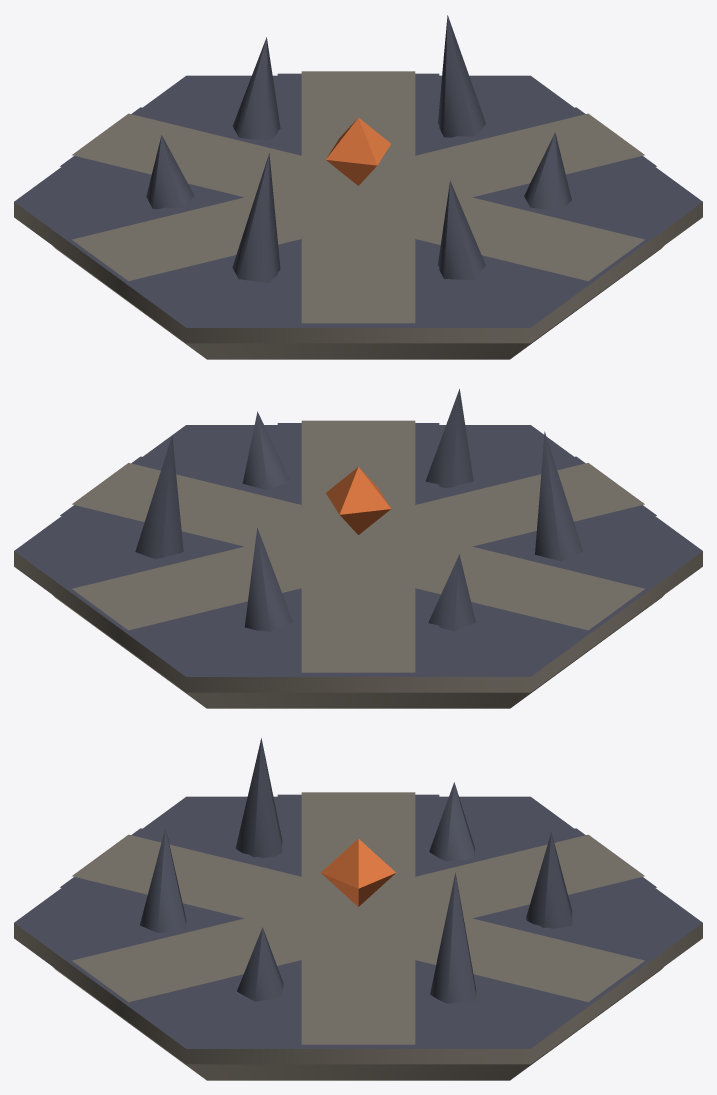
File: landmark_boss.glb
3 views of the same model, one above another, from view 1: azimuth 30°, elevation 25°; view 2: azimuth 150°, elevation 25°; view 3: azimuth 270°, elevation 25° (orthographic).
Visible parts, largest first — view 1: road, turf, obsidian_spike (×6), tile_base, boss_core, road_hub; view 2: road, turf, obsidian_spike (×6), tile_base, boss_core; view 3: road, turf, obsidian_spike (×6), tile_base, boss_core, road_hub.
Part boxes in pixels (box(x1,y1,x2,y2)): road: box(60, 71, 656, 325); turf: box(14, 75, 702, 343); obsidian_spike (×6): box(146, 15, 571, 282); tile_base: box(53, 246, 663, 359); boss_core: box(326, 117, 390, 185); road_hub: box(294, 171, 422, 222); road: box(60, 420, 656, 675); turf: box(14, 425, 702, 692); obsidian_spike (×6): box(135, 389, 583, 631); tile_base: box(53, 595, 663, 708); boss_core: box(326, 467, 390, 534); road: box(60, 792, 656, 1046); turf: box(14, 796, 702, 1064); obsidian_spike (×6): box(140, 738, 572, 1003); tile_base: box(53, 967, 663, 1080); boss_core: box(321, 838, 395, 906); road_hub: box(293, 892, 423, 941).
Size of the model in its own units: 1.73 by 0.5286 by 2.
